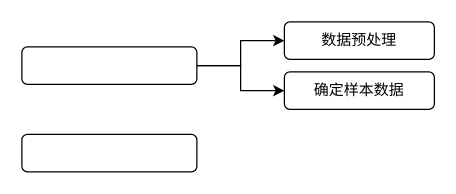
Image size: 456x194. Some labels were removed from this diagram. Here are the shapes that lost their labels. From the top down, the centre of each, then its label:
point 109,65: 分析问题与数据
point 109,152: 全部空值的数据
